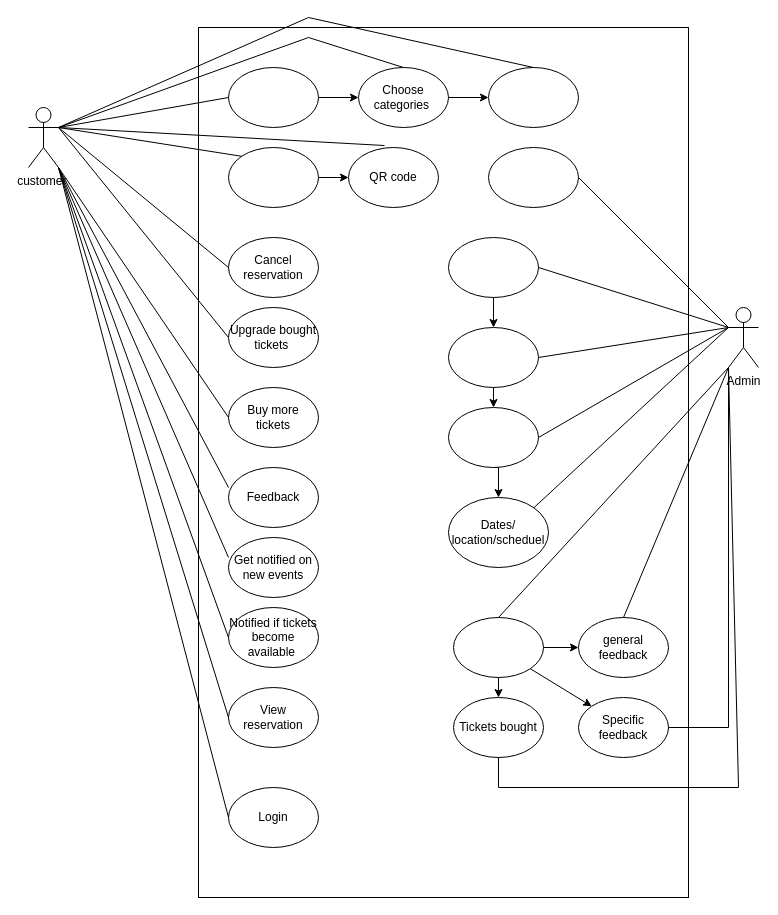
Some shapes in this 778 by 915 pixel diagram are drawn without their labels. The shapes that lost their labels are listed below. From the top down, each one's centre as x and y in pixels, then its label:
the point at 273,97: Check if tickets available
the point at 533,97: Complete payment
the point at 273,177: View ordered tickets
the point at 533,177: Send notifications to users
the point at 493,267: Create event
the point at 493,357: Add new artist
the point at 493,437: Set prices
the point at 498,647: Analytics
